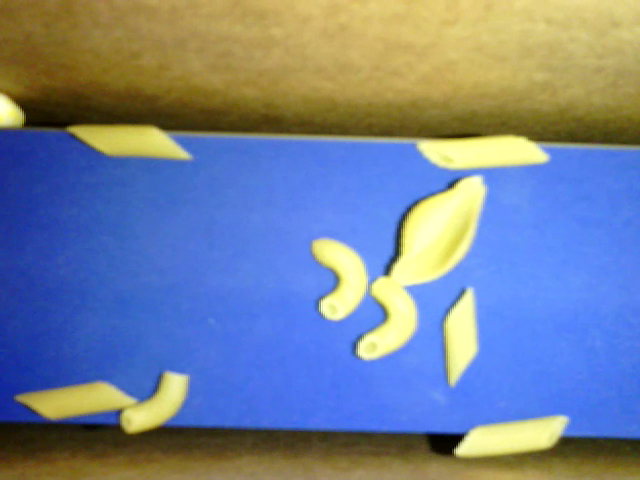elbow: (355, 275, 420, 361), (310, 235, 368, 321), (119, 371, 190, 433)
penne: (14, 380, 140, 421), (454, 415, 569, 458), (416, 134, 550, 169), (66, 124, 191, 159), (443, 286, 478, 388)
shell: (389, 176, 487, 286)
